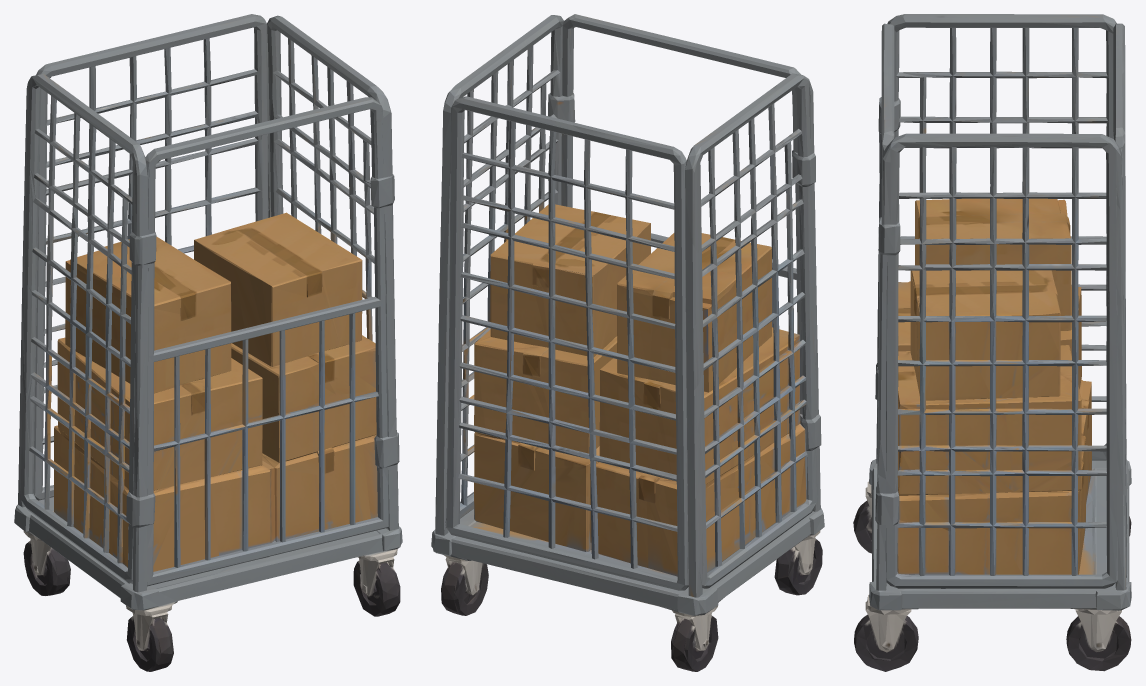
The model's file is roll_container.glb.
3 views of the same model, side by side, from view 1: azimuth 30°, elevation 25°; view 2: azimuth 150°, elevation 25°; view 3: azimuth 270°, elevation 25° (orthographic). The views are drawn at different scales.
Parts seen in each view (by area): view 1: roll_container; view 2: roll_container; view 3: roll_container.
Boxes of the visible parts, x1,y1,x2,y2 form: roll_container: (14,14,402,671); roll_container: (431,14,824,671); roll_container: (853,14,1131,671).
Bounding box in the file's own units: 0.9334 × 1.7 × 0.8006.
Materials: 1 (1 with a texture image).
